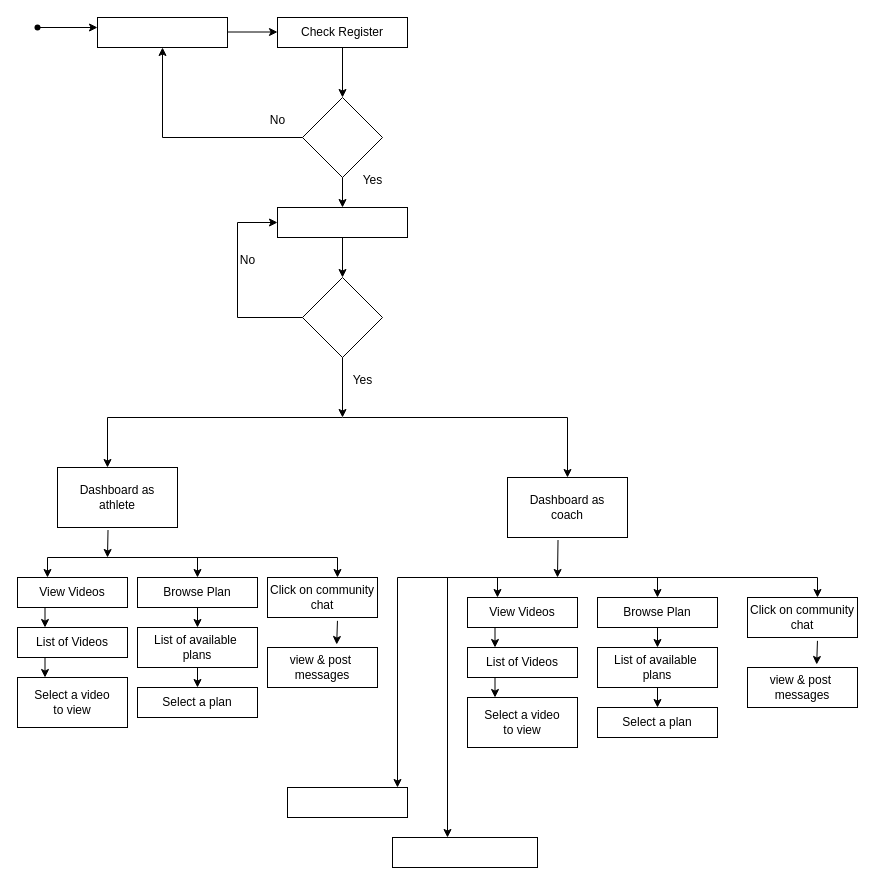
This 875x885 diagram has some shape labels left out. The shapes that lost their labels are listed below. From the top down, each one's box as (x1, y1, x2, y2) in pixels, then its label:
(96, 16, 228, 48): Register
(276, 206, 408, 238): Login
(286, 786, 408, 818): Create Plans
(392, 836, 538, 868): Upload Video
